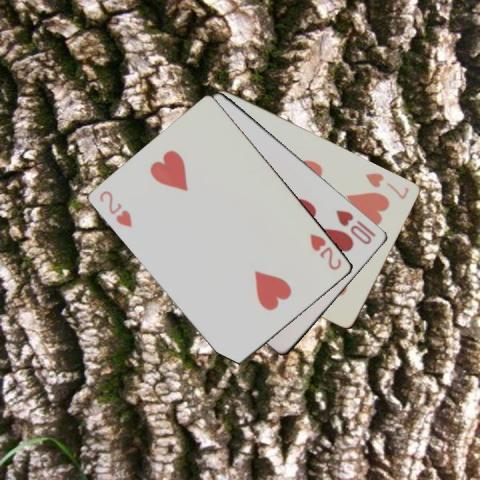10h: (334, 207, 377, 246)
2h: (97, 187, 134, 229), (307, 231, 343, 271)
7h: (362, 169, 410, 201)
